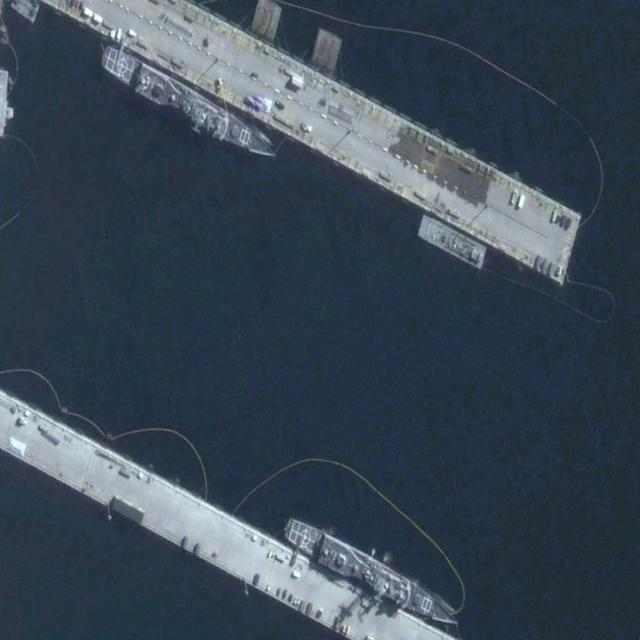Frigate: (97, 40, 280, 170), (281, 510, 460, 638)
